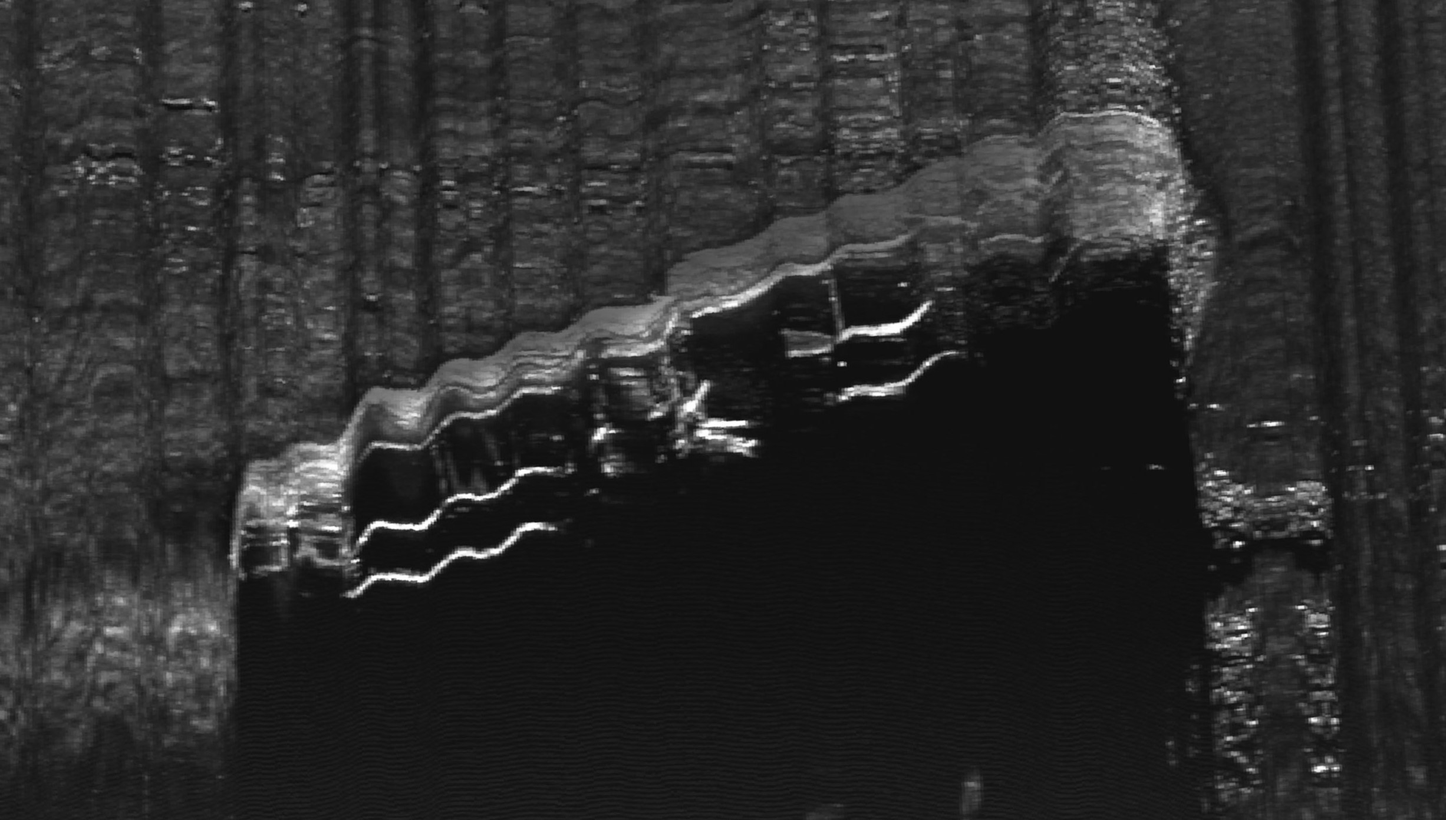ship: (241, 106, 1177, 595)
